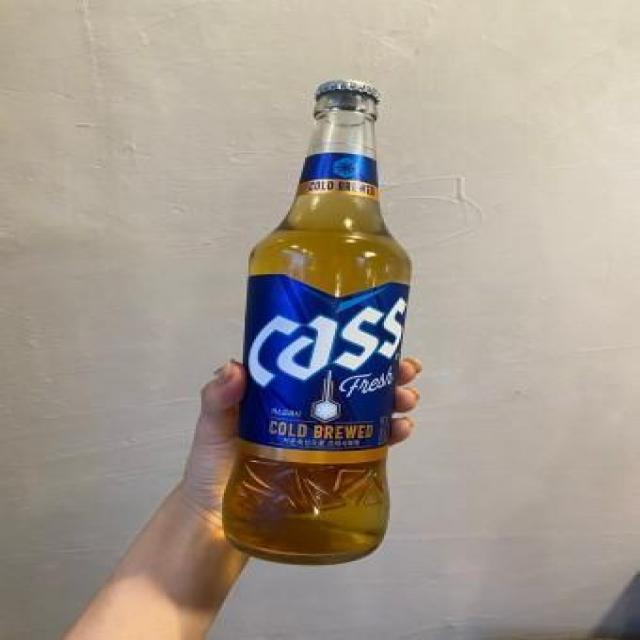beer-bottle: (202, 76, 424, 568)
